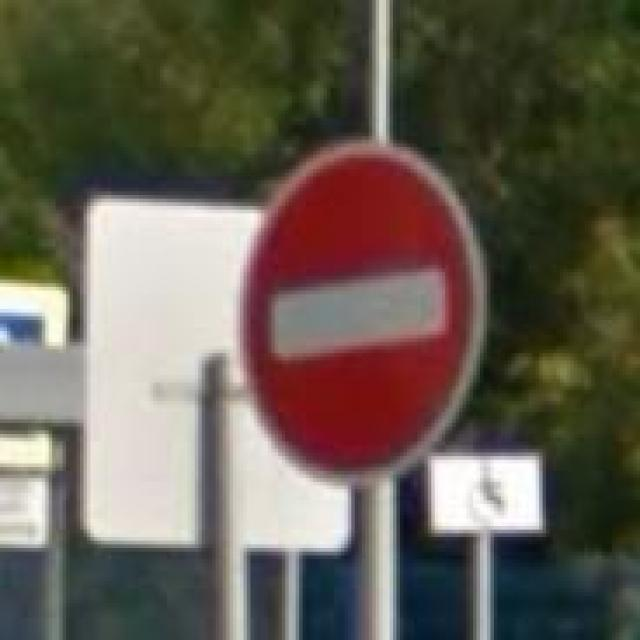Zakaz wjazdu: (240, 140, 487, 485)
